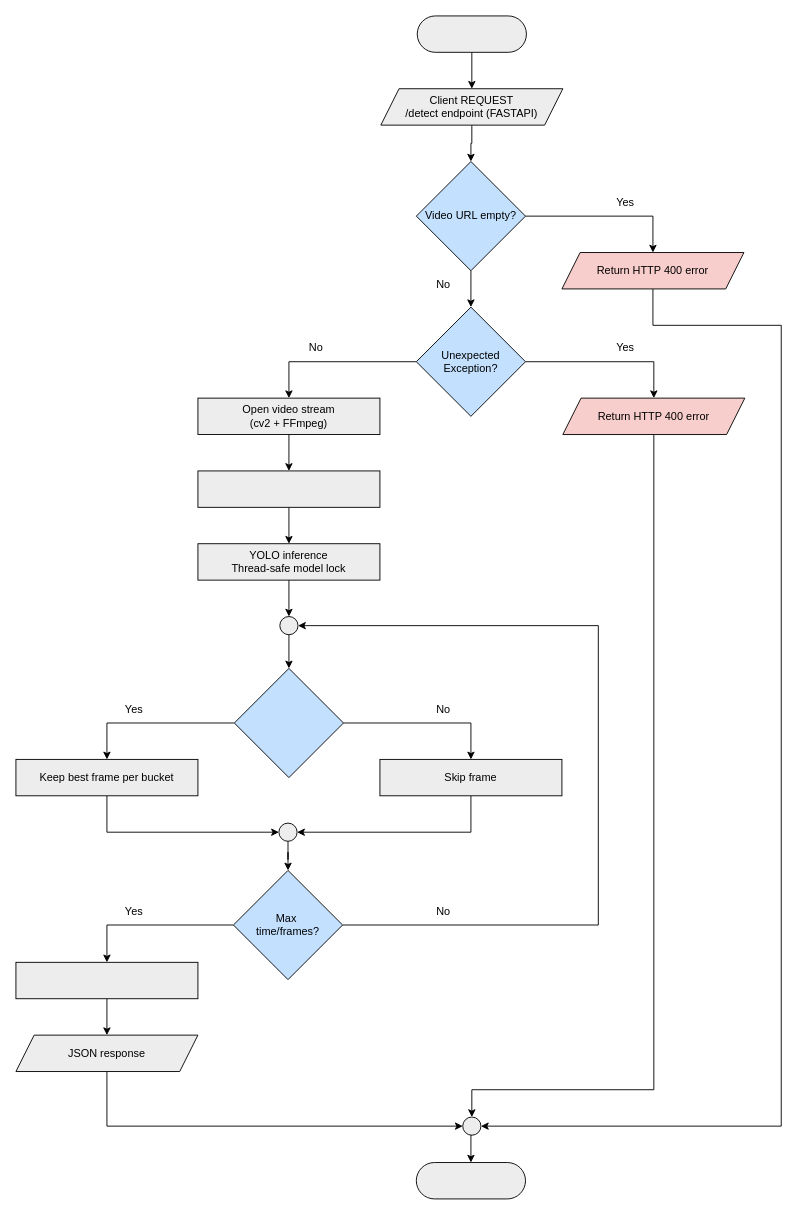
This 804x1215 diagram has some shape labels left out. The centre of each missing label's shape, as x and y in pixels:
"End" goes at point (470, 1180).
"Frame sampling interval Time bucket logic" goes at point (288, 488).
"Person Detected?" goes at point (288, 722).
"Select top-N frames" goes at point (106, 980).
"Start" goes at point (471, 33).
